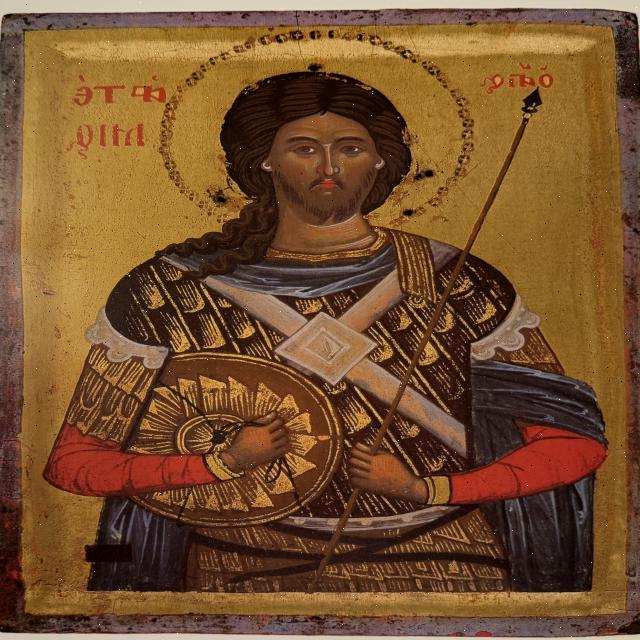aura: (157, 27, 477, 232)
saint: (40, 26, 606, 594)
shield: (114, 352, 336, 528)
spear: (311, 85, 551, 595)
